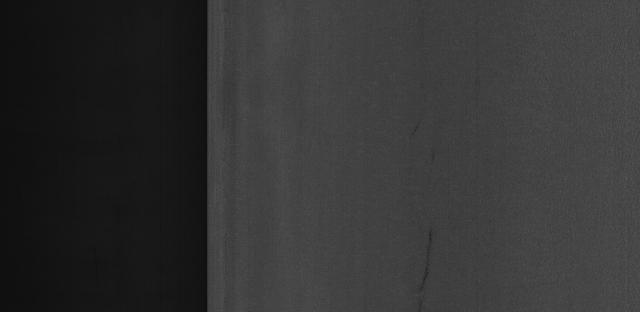inclusion: (402, 225, 452, 306)
